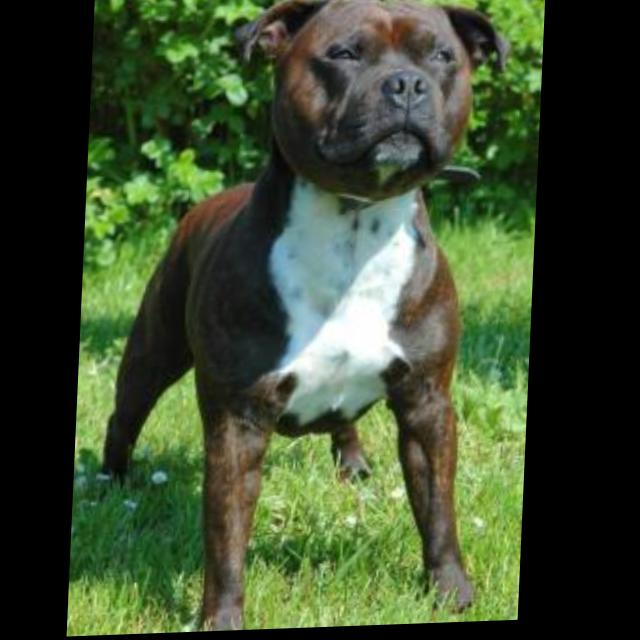staffford: (98, 1, 512, 638)
